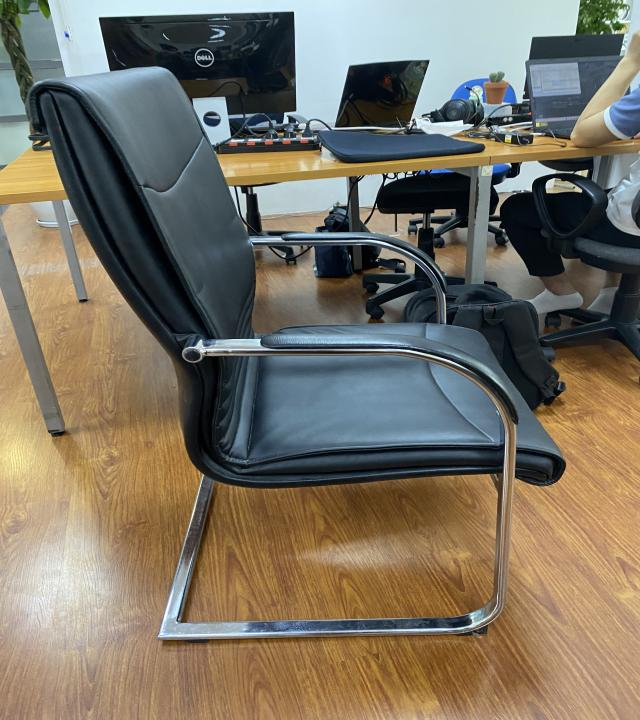SS_03: (21, 63, 566, 645)
